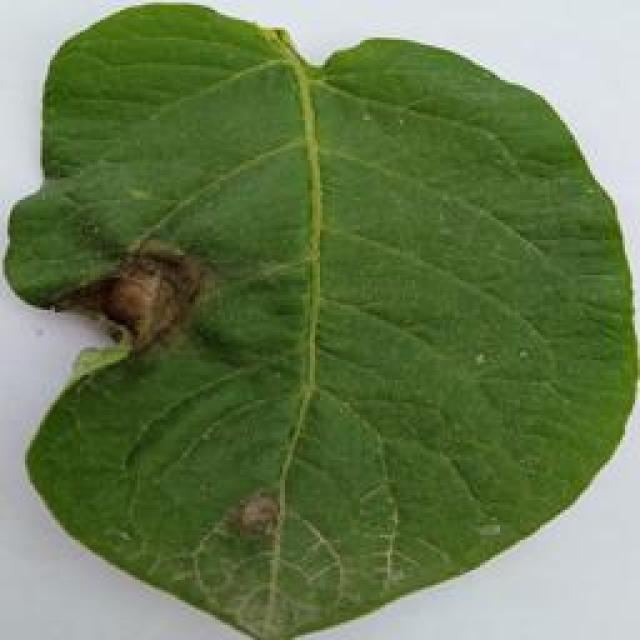Potato_Late_Blight: (9, 11, 640, 640)
